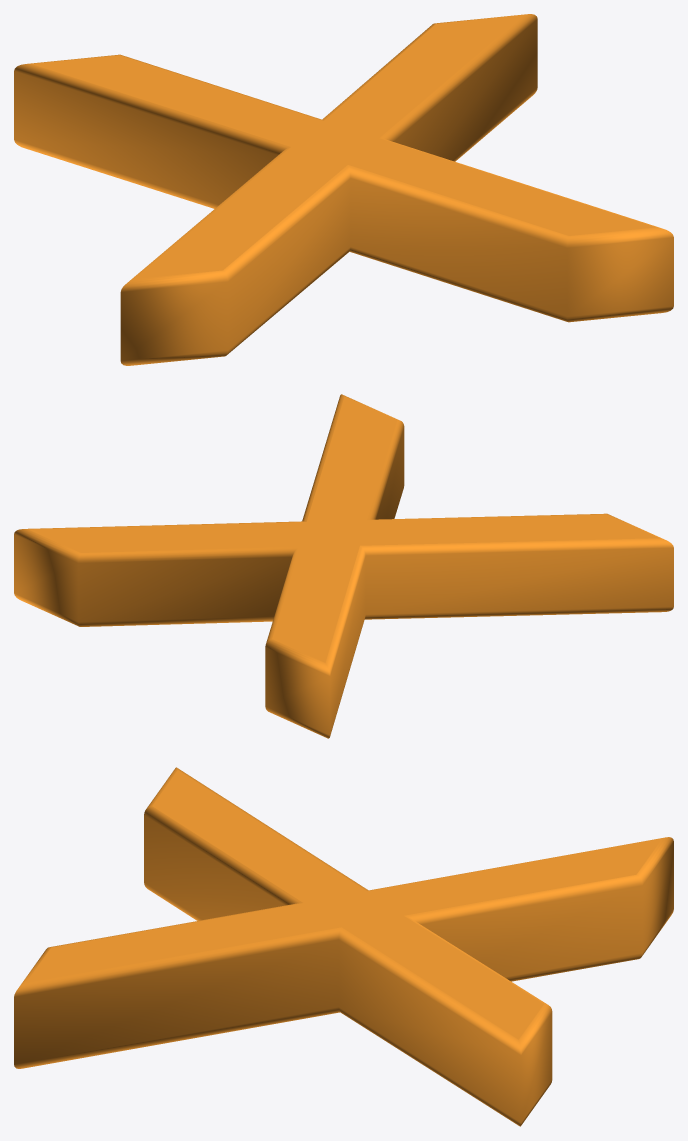
The model's file is ToyObject_146.fbx.
The picture shows the model from 3 angles, top to bottom: view 1: azimuth 30°, elevation 25°; view 2: azimuth 150°, elevation 25°; view 3: azimuth 270°, elevation 25°; orthographic projection. The views are drawn at different scales.
Parts seen in each view (by area): view 1: 1.058; view 2: 1.058; view 3: 1.058.
Part boxes in pixels (x1,y1,x2,y2): 1.058: (14,14,673,365); 1.058: (14,394,673,738); 1.058: (14,767,673,1126).
Bounding box in the file's own units: 0.2047 × 0.0282 × 0.2006.
